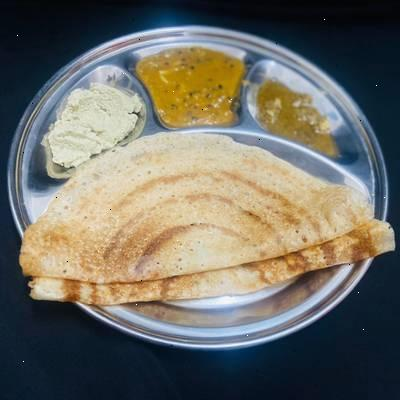coconut chutney: (51, 83, 131, 162)
dosa: (60, 156, 353, 293)
sambhar: (129, 46, 232, 122)
